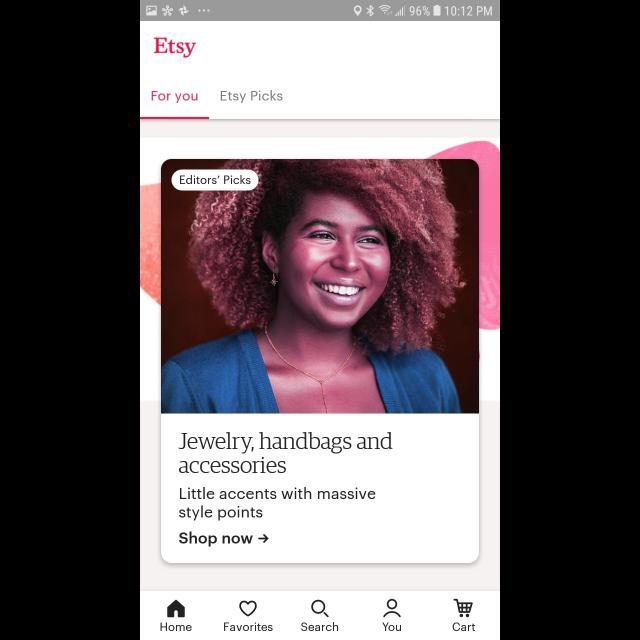icon: (453, 598, 473, 618), (383, 598, 401, 618), (311, 599, 329, 617), (167, 600, 185, 618), (239, 600, 257, 616), (258, 533, 270, 543)
image: (161, 158, 479, 414)
text: (179, 432, 393, 473), (180, 487, 376, 521), (179, 531, 253, 547), (221, 90, 283, 104), (154, 38, 196, 58), (152, 92, 198, 105), (224, 622, 272, 632), (302, 621, 338, 631), (160, 622, 192, 632), (452, 622, 476, 632), (382, 622, 402, 632)
textbutton: (172, 170, 258, 190)
uppertaskbar: (140, 1, 500, 22)
